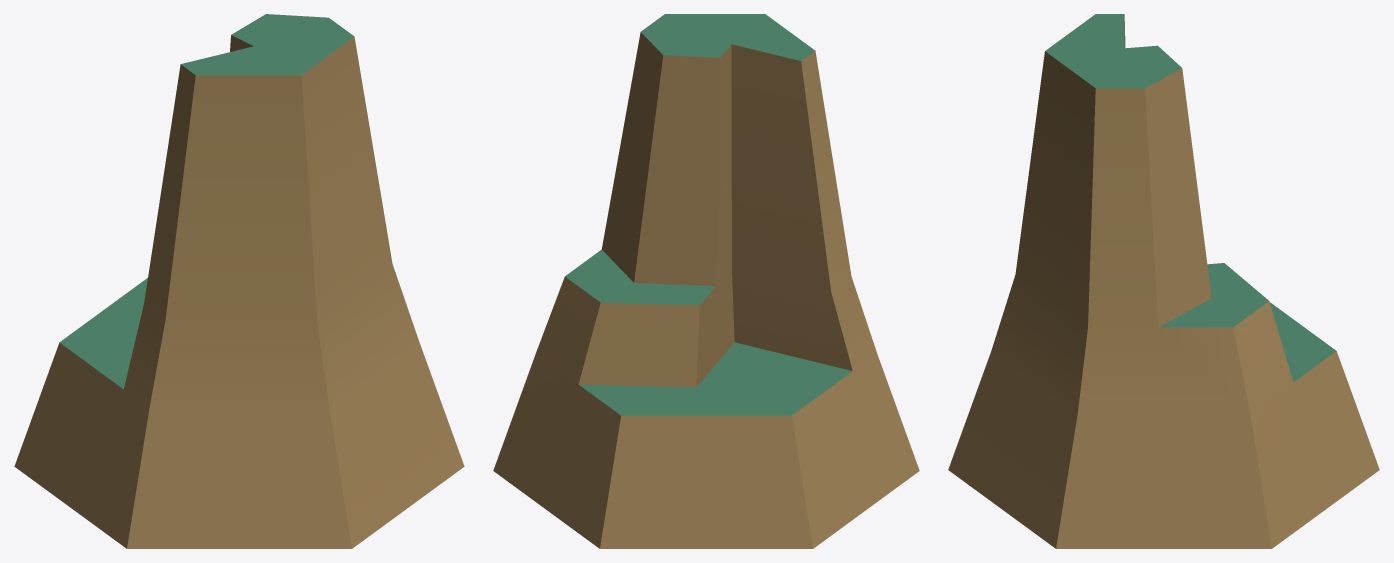
Rendered from naturePack_132.obj.
The picture shows the model from 3 angles, left to right: view 1: azimuth 30°, elevation 25°; view 2: azimuth 150°, elevation 25°; view 3: azimuth 270°, elevation 25°; orthographic projection. The views are drawn at different scales.
Parts seen in each view (by area): view 1: Wood, Mesh1 Tall_Rock_3 Model, Green_leafs; view 2: Wood, Green_leafs; view 3: Wood, Mesh1 Tall_Rock_3 Model, Green_leafs.
Boxes of the visible parts, x1,y1,x2,y2 form: Wood: [14, 35, 351, 548]; Mesh1 Tall_Rock_3 Model: [301, 36, 464, 548]; Green_leafs: [59, 14, 354, 389]; Wood: [493, 32, 919, 548]; Green_leafs: [565, 14, 852, 415]; Wood: [1056, 21, 1379, 548]; Mesh1 Tall_Rock_3 Model: [948, 51, 1095, 548]; Green_leafs: [1045, 14, 1336, 382].
Bounding box in the file's own units: 1.59 × 1.97 × 1.84.
